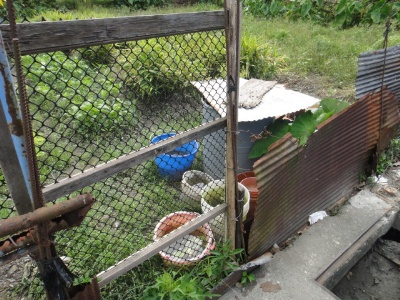bucket: (201, 94, 273, 183), (152, 210, 217, 270), (200, 178, 251, 248), (150, 132, 200, 184)
